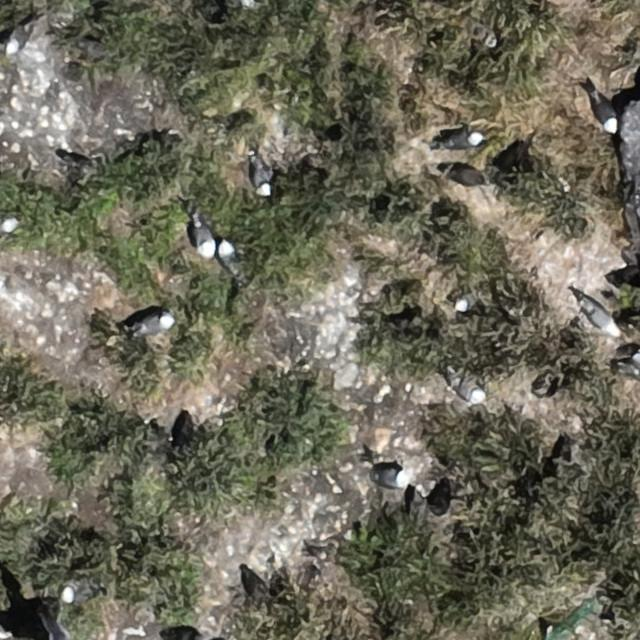umineko: (372, 463, 411, 489), (584, 302, 615, 333), (453, 376, 485, 403), (6, 21, 33, 52), (134, 312, 172, 333), (592, 97, 615, 131), (438, 131, 481, 148), (195, 220, 215, 256), (253, 157, 272, 193), (61, 583, 90, 602), (220, 239, 236, 268), (458, 292, 477, 312), (2, 217, 16, 235)
